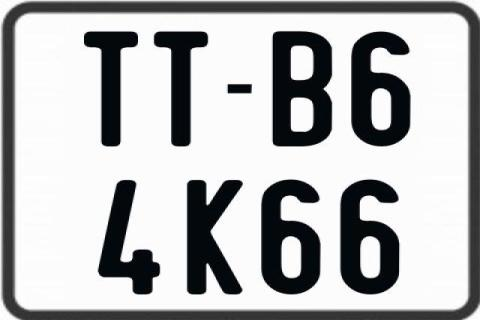0: (97, 179, 161, 295), (350, 29, 412, 148), (258, 179, 321, 295), (339, 178, 401, 294)
B: (270, 29, 331, 148)
K: (186, 179, 243, 299)
T: (82, 32, 140, 152), (153, 31, 207, 148)
